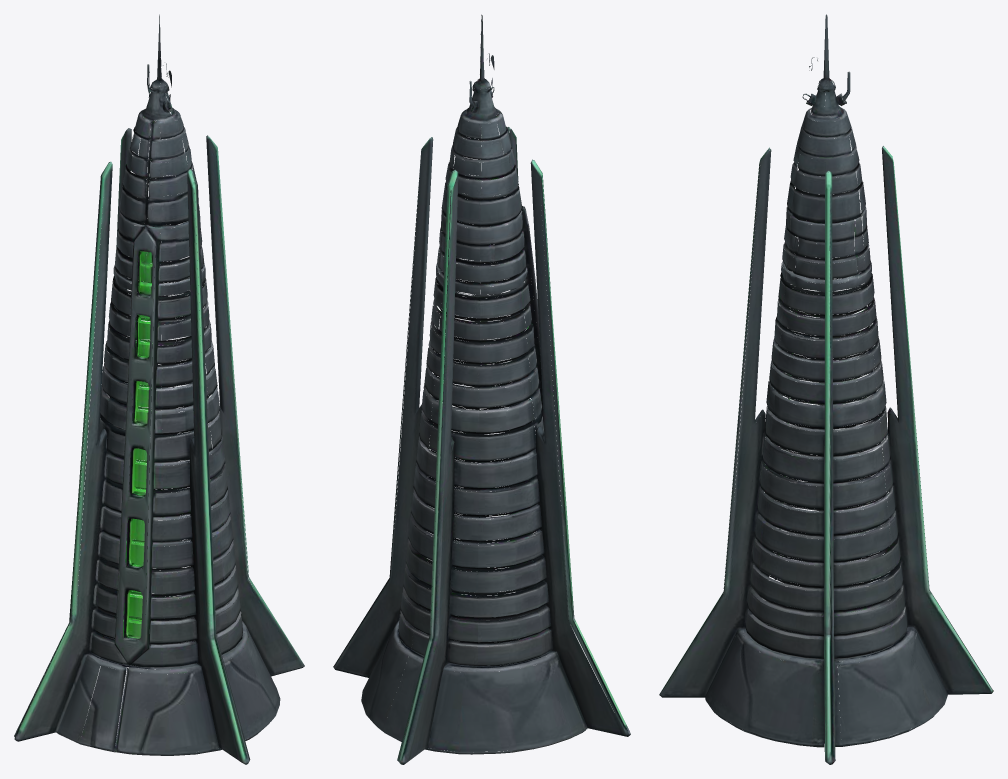
Rendered from moon_alien_spire.glb.
3 renders of one model, left to right at view 1: azimuth 30°, elevation 25°; view 2: azimuth 150°, elevation 25°; view 3: azimuth 270°, elevation 25°, orthographic.
Parts seen in each view (by area): view 1: moon_alien_spire; view 2: moon_alien_spire; view 3: moon_alien_spire.
Part boxes in pixels (x1=…): moon_alien_spire: x1=14, y1=14, x2=304, y2=764; moon_alien_spire: x1=333, y1=14, x2=630, y2=764; moon_alien_spire: x1=659, y1=14, x2=993, y2=764.
Size of the model in its own units: 15.99 by 36.01 by 15.99.
1 material, 1 textured.
